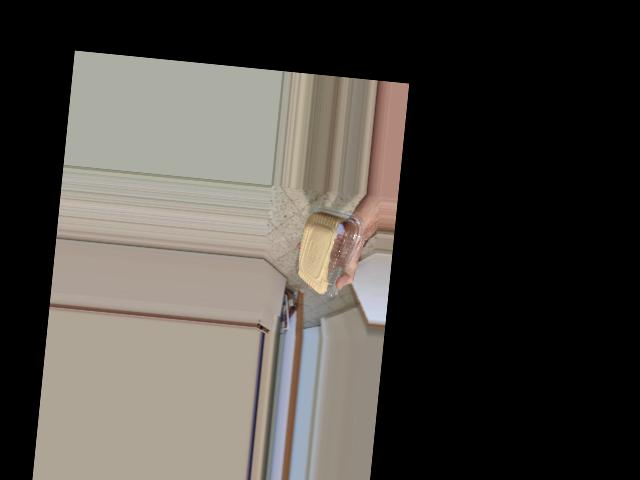cheese: (304, 200, 349, 278)
